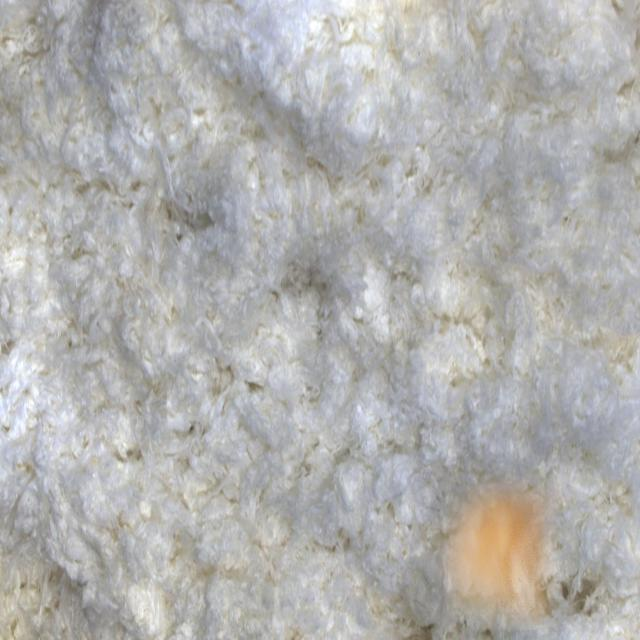dust: (437, 470, 564, 630)
